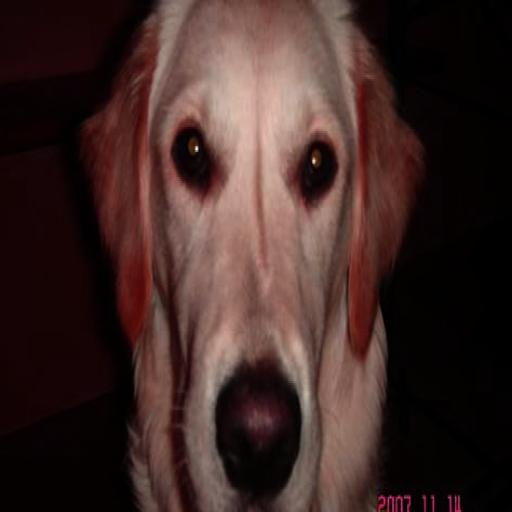dog_face: (80, 14, 423, 504)
